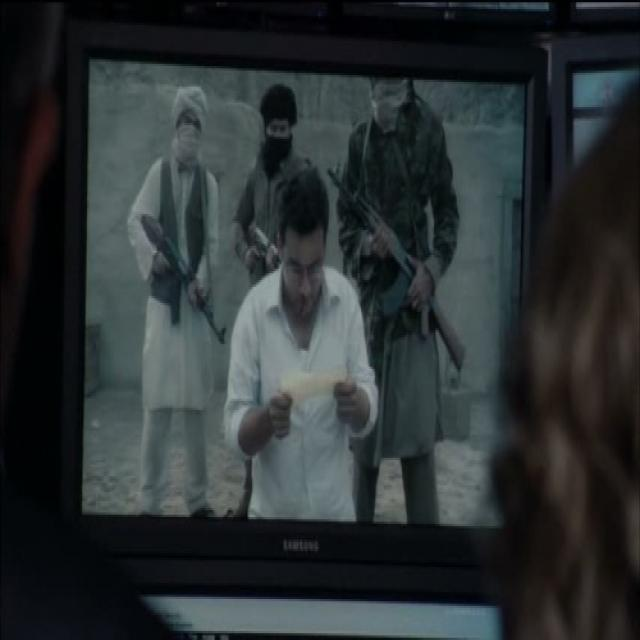rifle: (329, 160, 469, 373), (144, 209, 232, 347)
